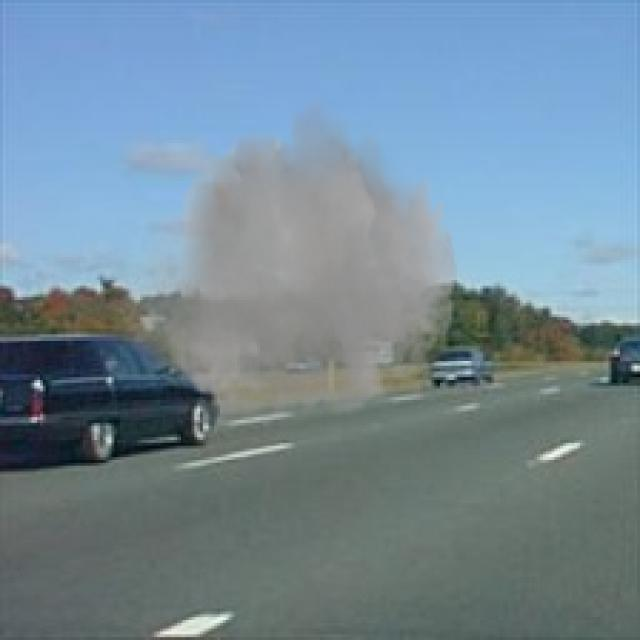smoke: (111, 88, 466, 443)
